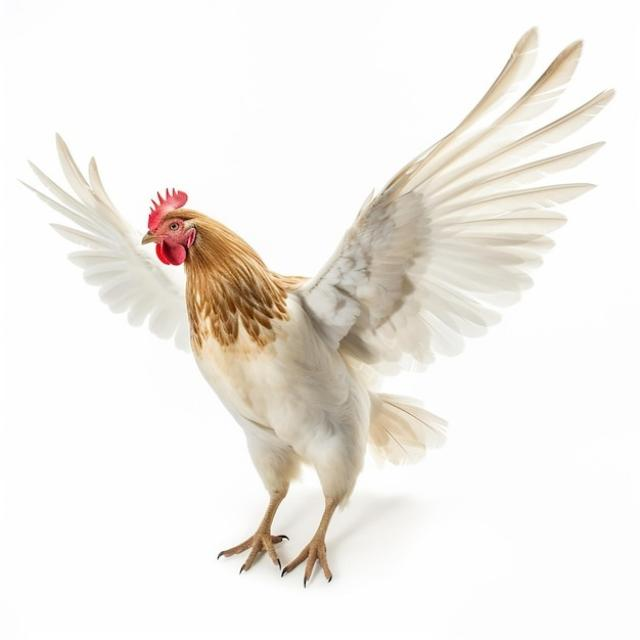Chicken: (17, 26, 618, 586)
